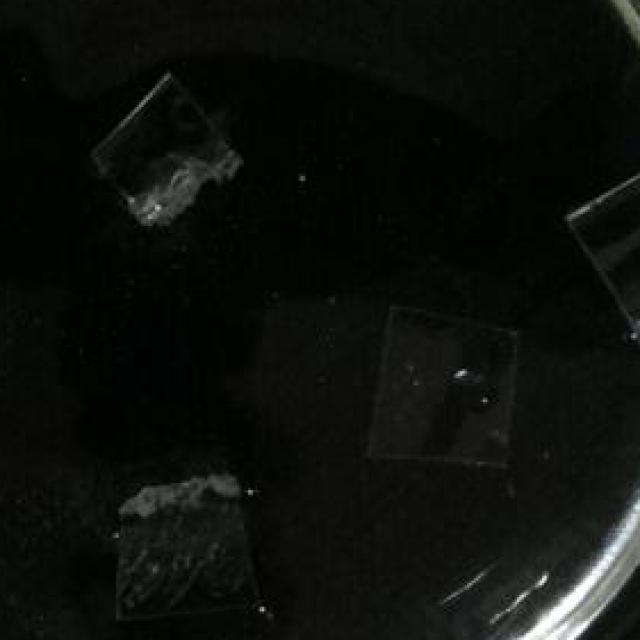Microplastic: (360, 297, 521, 469), (89, 66, 246, 228), (105, 469, 257, 628), (562, 142, 640, 349)
